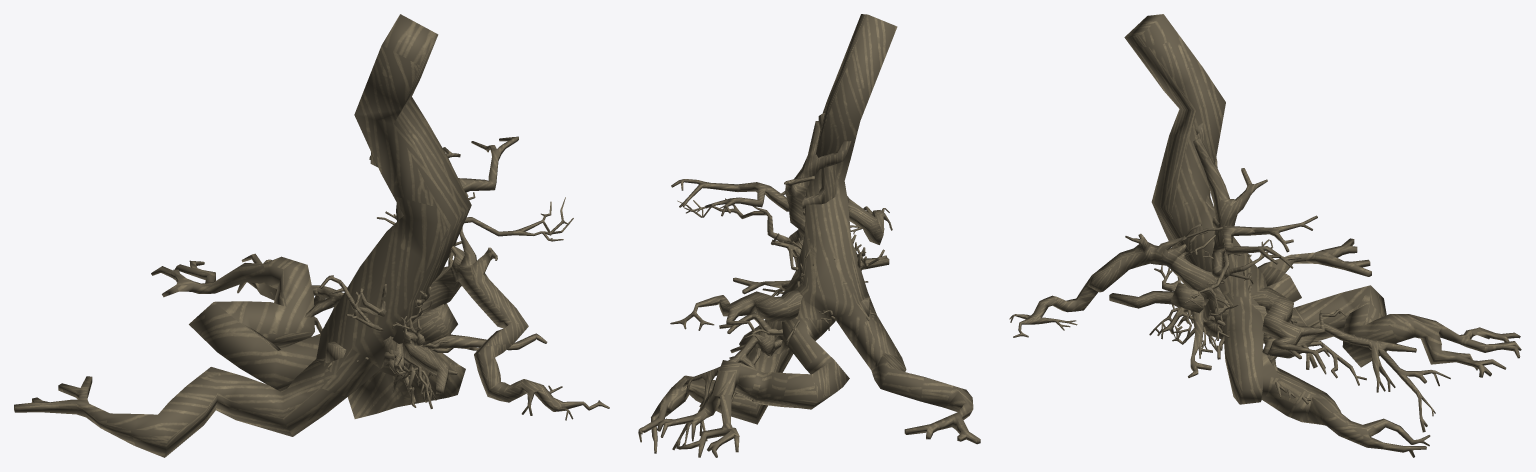
Rendered from EN_Trees_TEST.gltf.
3 renders of one model, left to right at view 1: azimuth 30°, elevation 25°; view 2: azimuth 150°, elevation 25°; view 3: azimuth 270°, elevation 25°, orthographic. The views are drawn at different scales.
Visible parts, largest first — view 1: EN_PR_Tree_Big_01_V1, EN_PR_Tree_Big_03_V1, EN_PR_Tree_Big_02_V1, EN_PR_Tree_Branch_01_V1, EN_PR_Tree_Branch_floor_01_V1, EN_PR_Tree_Big_04_V1, EN_PR_Tree_Small_03_V1, EN_PR_Tree_Small_05_V1; view 2: EN_PR_Tree_Big_01_V1, EN_PR_Tree_Big_04_V1, EN_PR_Tree_Big_02_V1, EN_PR_Tree_Branch_01_V1, EN_PR_Tree_Big_03_V1, EN_PR_Tree_Branch_02_V1; view 3: EN_PR_Tree_Big_01_V1, EN_PR_Tree_Big_04_V1, EN_PR_Tree_Big_03_V1, EN_PR_Tree_Branch_01_V1, EN_PR_Tree_Big_02_V1, EN_PR_Tree_Branch_floor_01_V1, EN_PR_Tree_Branch_02_V1.
Boxes of the visible parts, x1,y1,x2,y2 form: EN_PR_Tree_Big_01_V1: (14,14,471,457); EN_PR_Tree_Big_03_V1: (421,227,609,420); EN_PR_Tree_Big_02_V1: (377,136,547,352); EN_PR_Tree_Branch_01_V1: (304,285,457,345); EN_PR_Tree_Branch_floor_01_V1: (392,316,448,394); EN_PR_Tree_Big_04_V1: (319,152,573,369); EN_PR_Tree_Small_03_V1: (346,288,436,408); EN_PR_Tree_Small_05_V1: (316,282,457,374); EN_PR_Tree_Big_01_V1: (638,14,980,457); EN_PR_Tree_Big_04_V1: (670,121,851,342); EN_PR_Tree_Big_02_V1: (671,113,835,335); EN_PR_Tree_Branch_01_V1: (672,320,785,450); EN_PR_Tree_Big_03_V1: (778,191,892,287); EN_PR_Tree_Branch_02_V1: (729,296,870,401); EN_PR_Tree_Big_01_V1: (1124,14,1521,457); EN_PR_Tree_Big_04_V1: (1184,138,1346,374); EN_PR_Tree_Big_03_V1: (1009,223,1253,337); EN_PR_Tree_Branch_01_V1: (1170,282,1450,432); EN_PR_Tree_Big_02_V1: (1188,123,1317,377); EN_PR_Tree_Branch_floor_01_V1: (1109,265,1224,323); EN_PR_Tree_Branch_02_V1: (1203,321,1366,404).
Size of the model in its own units: 33.58 by 33.53 by 39.41.
1 material, 1 textured.
